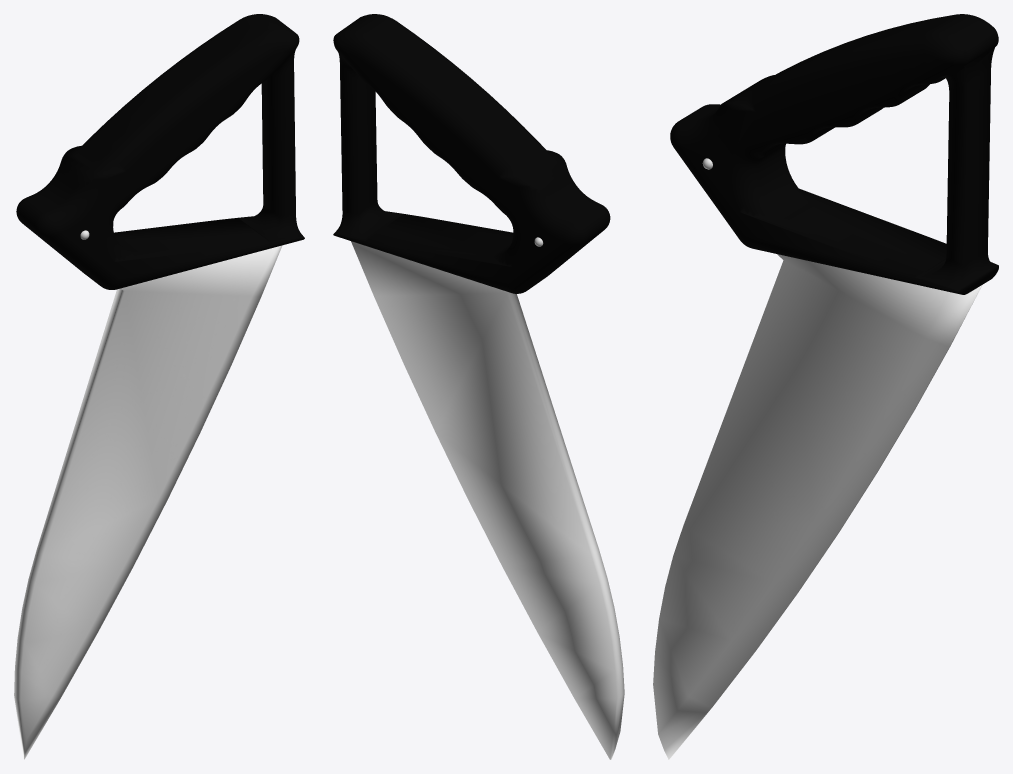
File: cuchillo.glb
The picture shows the model from 3 angles, left to right: view 1: azimuth 30°, elevation 25°; view 2: azimuth 150°, elevation 25°; view 3: azimuth 330°, elevation 25°; orthographic projection. The views are drawn at different scales.
Visible parts, largest first — view 1: Cuchillo; view 2: Cuchillo; view 3: Cuchillo.
Boxes of the visible parts, bbox=[...] form: Cuchillo: bbox=[14, 14, 304, 759]; Cuchillo: bbox=[333, 14, 624, 759]; Cuchillo: bbox=[653, 14, 998, 759].
Bounding box in the file's own units: 9.19 × 21.7 × 2.54.
Materials: 3 (1 with a texture image).
